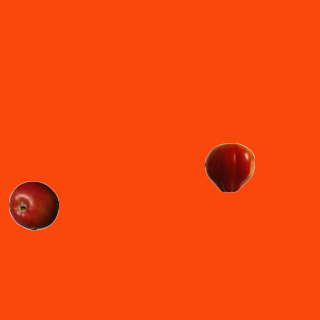Apple Braeburn: (8, 180, 58, 230)
Tomato 1: (204, 142, 254, 192)
